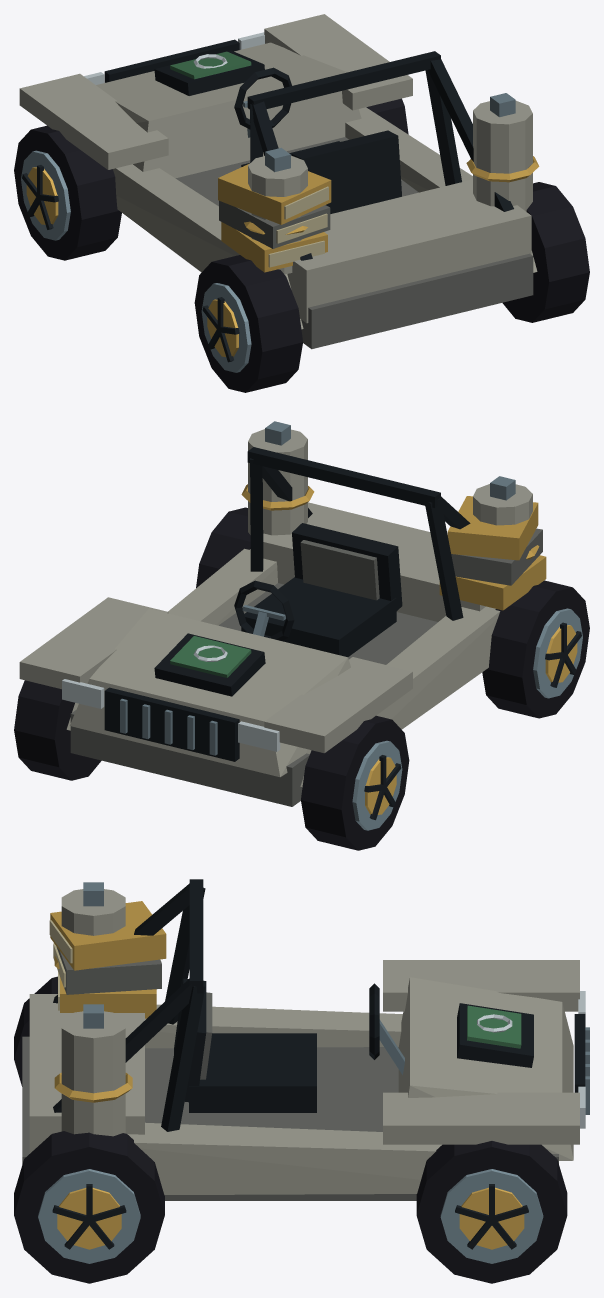
File: kart.glb
The picture shows the model from 3 angles, top to bottom: view 1: azimuth 30°, elevation 25°; view 2: azimuth 150°, elevation 25°; view 3: azimuth 270°, elevation 25°; orthographic projection. The views are drawn at different scales.
Visible parts, largest first — view 1: identity-jeep-jeep-offroad-frame, wheel-rear-left, wheel-front-left, identity-jeep-motif-tanks, identity-jeep-motif-books, wheel-rear-right, identity-jeep-driver-cockpit, identity-jeep-motif-scanner, wheel-front-right; view 2: identity-jeep-jeep-offroad-frame, identity-jeep-driver-cockpit, wheel-rear-left, wheel-front-left, identity-jeep-motif-books, identity-jeep-motif-tanks, wheel-front-right, identity-jeep-motif-scanner, wheel-rear-right; view 3: identity-jeep-jeep-offroad-frame, wheel-rear-right, wheel-front-right, identity-jeep-driver-cockpit, identity-jeep-motif-tanks, identity-jeep-motif-books, identity-jeep-motif-scanner, wheel-rear-left.
Part boxes in pixels (x1=…): identity-jeep-jeep-offroad-frame: x1=19, y1=14, x2=537, y2=349; wheel-rear-left: x1=194, y1=255, x2=302, y2=392; wheel-front-left: x1=14, y1=125, x2=121, y2=260; identity-jeep-motif-tanks: x1=244, y1=93, x2=539, y2=274; identity-jeep-motif-books: x1=218, y1=163, x2=331, y2=272; wheel-rear-right: x1=502, y1=182, x2=589, y2=322; identity-jeep-driver-cockpit: x1=234, y1=67, x2=401, y2=213; identity-jeep-motif-scanner: x1=154, y1=50, x2=264, y2=95; wheel-front-right: x1=366, y1=98, x2=408, y2=134; identity-jeep-jeep-offroad-frame: x1=19, y1=447, x2=500, y2=806; identity-jeep-driver-cockpit: x1=234, y1=523, x2=402, y2=657; wheel-rear-left: x1=482, y1=580, x2=589, y2=718; wheel-front-left: x1=301, y1=715, x2=409, y2=850; identity-jeep-motif-books: x1=439, y1=496, x2=546, y2=610; identity-jeep-motif-tanks: x1=241, y1=421, x2=539, y2=559; wheel-front-right: x1=14, y1=680, x2=101, y2=780; identity-jeep-motif-scanner: x1=154, y1=633, x2=265, y2=696; wheel-rear-right: x1=196, y1=507, x2=250, y2=587; identity-jeep-jeep-offroad-frame: x1=22, y1=879, x2=589, y2=1200; wheel-rear-right: x1=14, y1=1131, x2=164, y2=1283; wheel-front-right: x1=416, y1=1141, x2=567, y2=1283; identity-jeep-driver-cockpit: x1=174, y1=978, x2=404, y2=1112; identity-jeep-motif-tanks: x1=54, y1=882, x2=132, y2=1136; identity-jeep-motif-books: x1=49, y1=901, x2=166, y2=1018; identity-jeep-motif-scanner: x1=457, y1=1003, x2=533, y2=1067; wheel-rear-left: x1=14, y1=976, x2=57, y2=1086.
Size of the model in its own units: 2.13 by 1.39 by 2.75.
